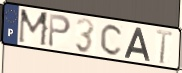3: (75, 17, 98, 55)
A: (123, 26, 152, 63)
C: (99, 22, 125, 57)
M: (17, 8, 51, 49)
P: (47, 13, 72, 49)
T: (155, 28, 174, 66)
